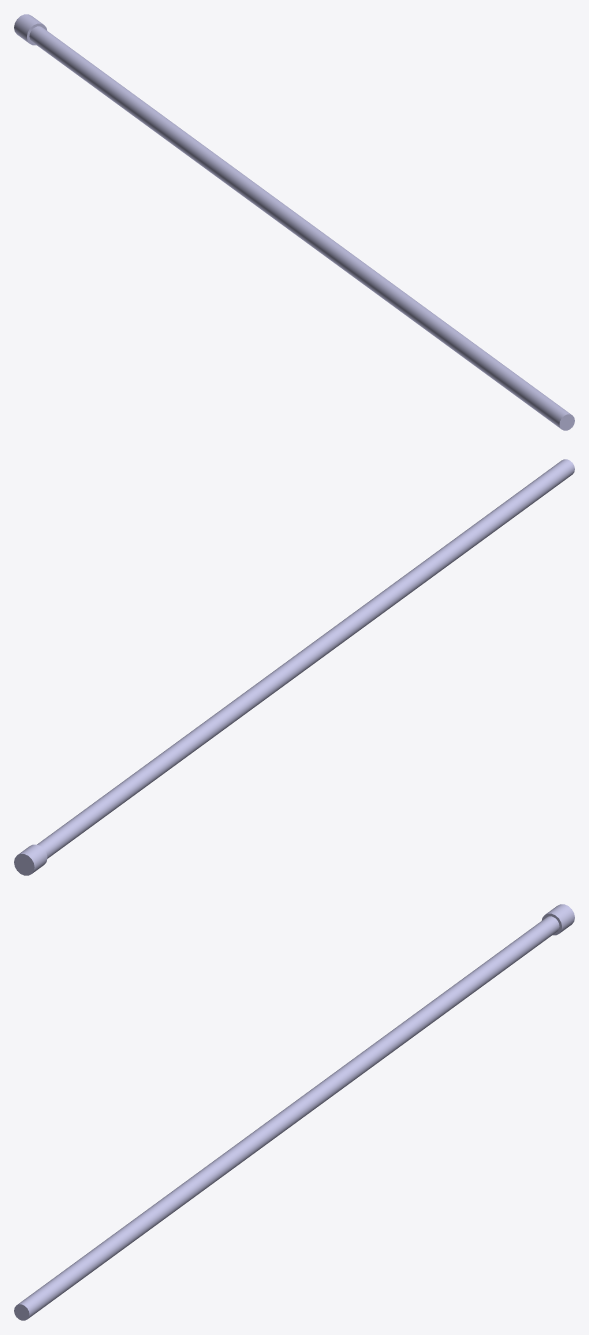
The model's file is Manometer.fbx.
3 views of the same model, one above another, from view 1: azimuth 30°, elevation 25°; view 2: azimuth 150°, elevation 25°; view 3: azimuth 330°, elevation 25° (orthographic).
Parts seen in each view (by area): view 1: ManometerUp, ManometerDown; view 2: ManometerUp, ManometerDown, ManometerHead; view 3: ManometerUp, ManometerDown.
Part boxes in pixels (<box>): ManometerUp: <box>29,26,392,298</box>; ManometerDown: <box>380,283,574,430</box>; ManometerUp: <box>37,590,395,858</box>; ManometerDown: <box>384,459,574,604</box>; ManometerHead: <box>14,844,47,875</box>; ManometerUp: <box>196,916,559,1188</box>; ManometerDown: <box>14,1173,208,1320</box>.
Size of the model in its own units: 0.00667 by 0.00667 by 0.3036.
